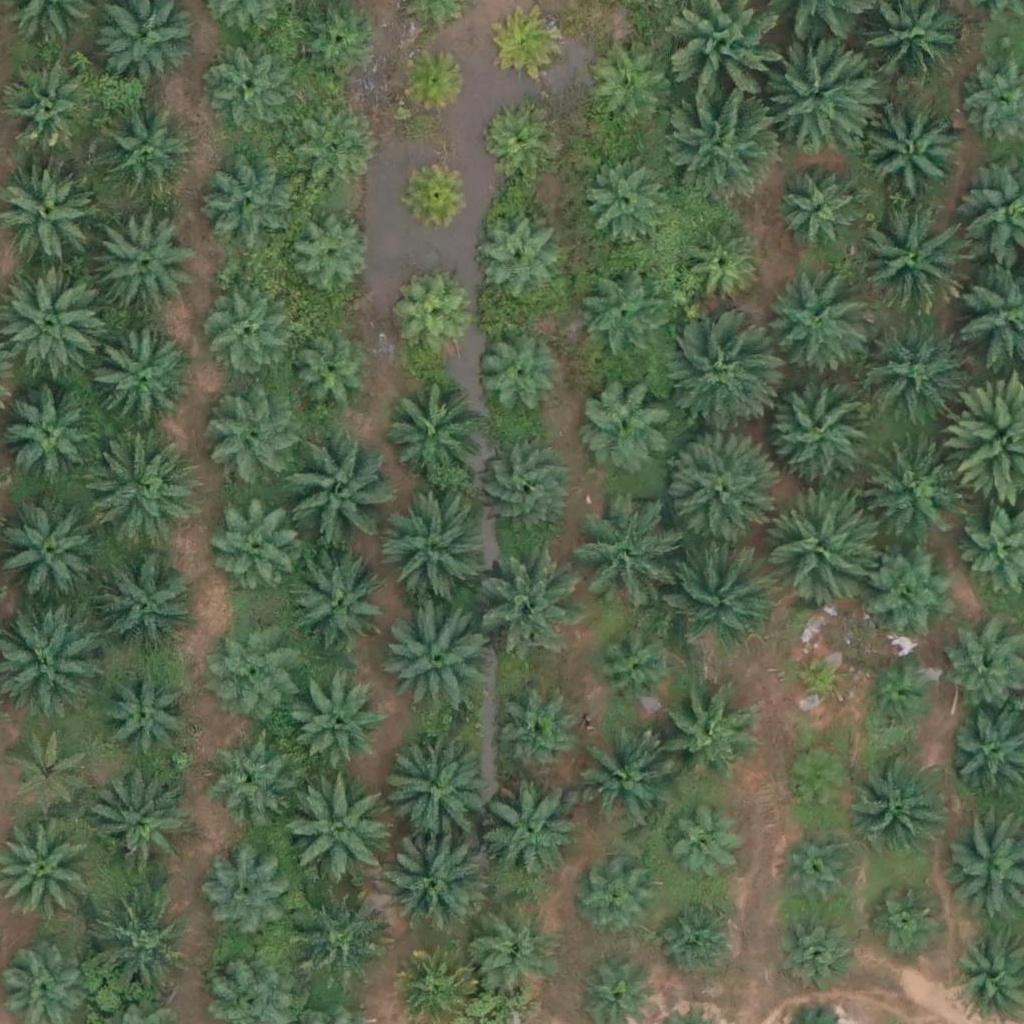Kelapa_Sawit: (375, 599, 488, 713), (853, 204, 966, 317), (857, 316, 970, 429), (764, 371, 877, 484), (661, 432, 774, 545), (380, 826, 493, 939), (372, 730, 485, 843), (84, 329, 197, 442), (85, 438, 198, 551), (668, 89, 781, 202), (661, 534, 773, 648), (378, 495, 490, 609), (280, 772, 392, 886), (757, 272, 869, 385), (762, 489, 874, 602), (659, 323, 771, 436), (472, 540, 584, 653), (276, 434, 388, 547), (80, 895, 192, 1008), (764, 36, 876, 149), (861, 437, 961, 538), (863, 538, 963, 639), (655, 686, 755, 787), (569, 735, 669, 836), (569, 507, 669, 608), (479, 783, 579, 884), (382, 383, 482, 484), (285, 551, 385, 652), (287, 888, 387, 989), (206, 388, 306, 489), (95, 208, 195, 309), (89, 781, 189, 882), (2, 388, 102, 489), (864, 101, 964, 202), (95, 100, 195, 201), (202, 152, 302, 253), (854, 752, 954, 853), (576, 373, 676, 473), (474, 441, 574, 541), (96, 556, 195, 657), (768, 908, 856, 996), (676, 222, 764, 310), (590, 624, 678, 712), (471, 215, 559, 303), (297, 684, 385, 772), (199, 852, 287, 940), (197, 287, 285, 375), (293, 113, 381, 201), (776, 167, 864, 255), (584, 46, 672, 134), (204, 43, 292, 131), (576, 272, 663, 361), (8, 727, 95, 816), (778, 827, 865, 915), (473, 331, 560, 419), (495, 693, 582, 781), (472, 913, 559, 1001), (289, 211, 376, 299), (286, 335, 373, 423), (200, 730, 287, 818), (209, 618, 296, 706), (212, 503, 299, 591), (103, 669, 190, 757), (583, 155, 670, 243), (1, 65, 88, 153), (478, 101, 553, 177), (661, 810, 736, 886), (663, 898, 738, 974), (862, 658, 937, 734), (781, 745, 856, 821), (395, 281, 470, 357), (400, 154, 475, 230), (493, 5, 568, 81), (869, 880, 944, 955), (581, 865, 656, 940), (395, 44, 470, 119), (788, 646, 850, 709)
